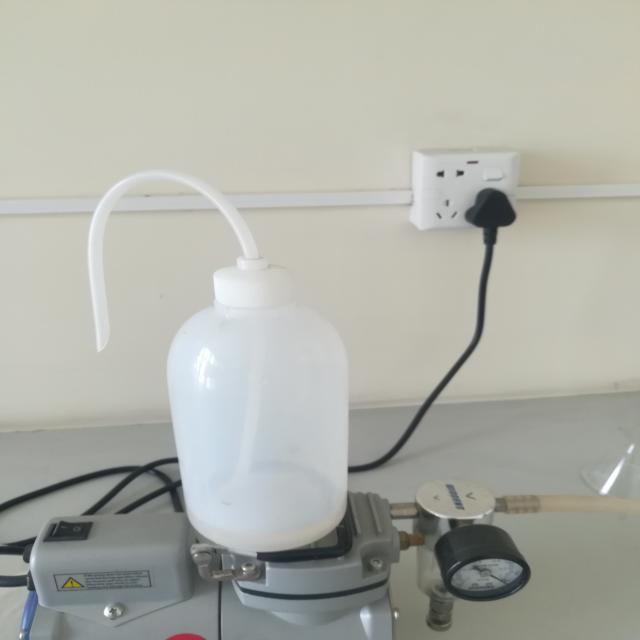Wash_Bottle: (48, 146, 380, 580)
